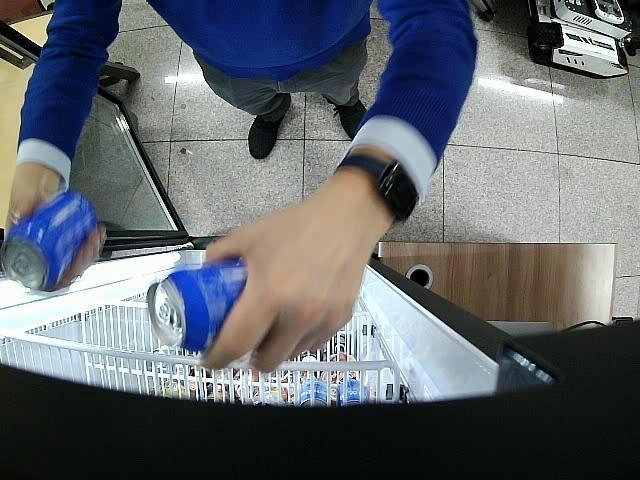13_pocariSweat: (0, 187, 97, 292), (146, 258, 248, 352)
